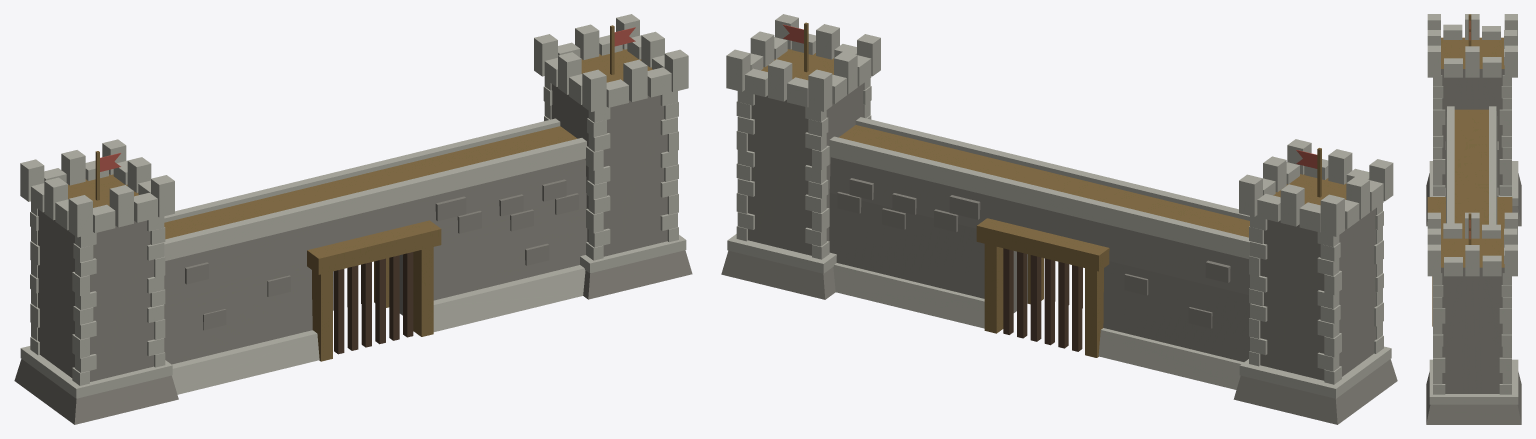
Rendered from castle-gate.glb.
3 renders of one model, left to right at view 1: azimuth 30°, elevation 25°; view 2: azimuth 150°, elevation 25°; view 3: azimuth 270°, elevation 25°, orthographic. The views are drawn at different scales.
Visible parts, largest first — view 1: WallTowers_DoorClosed_SecondAge; view 2: WallTowers_DoorClosed_SecondAge; view 3: WallTowers_DoorClosed_SecondAge.
Part boxes in pixels (x1,y1,x2,y2): WallTowers_DoorClosed_SecondAge: (14, 14, 692, 424); WallTowers_DoorClosed_SecondAge: (721, 14, 1397, 424); WallTowers_DoorClosed_SecondAge: (1426, 14, 1521, 424).
Size of the model in its own units: 1.98 by 0.7372 by 0.3334.
Materials: 1 (1 with a texture image).
